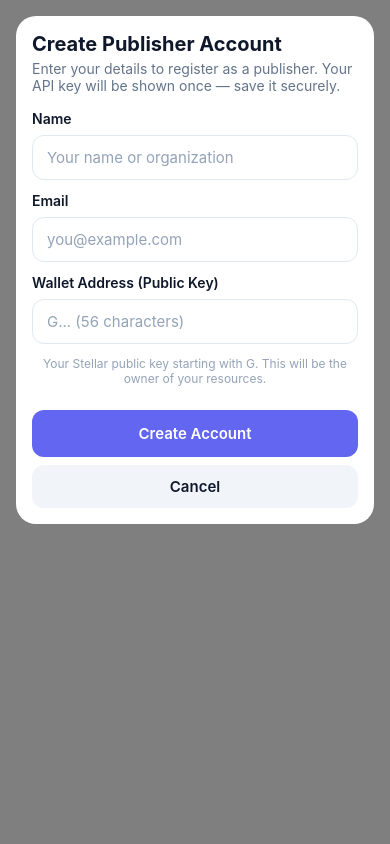
Test case: PublisherSignupSheet › shows validation error for invalid email
Type "not-an-email" into the field with placeholder "you@example.com". click: (195, 240)
box: [32,217,358,262]
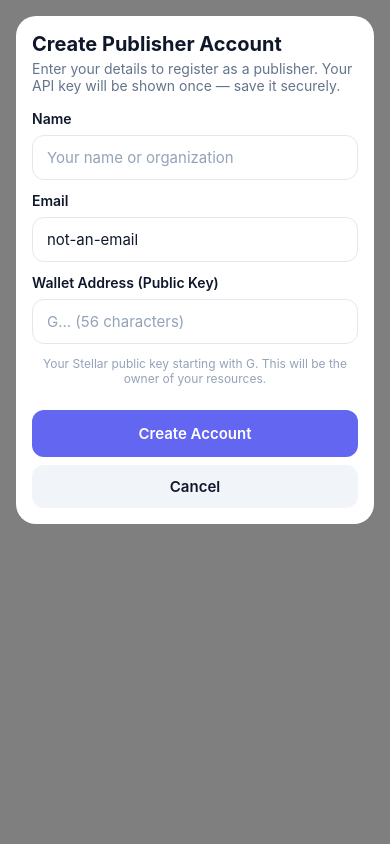
Click the button "Create Account". click: (195, 434)
box: [32,410,358,457]
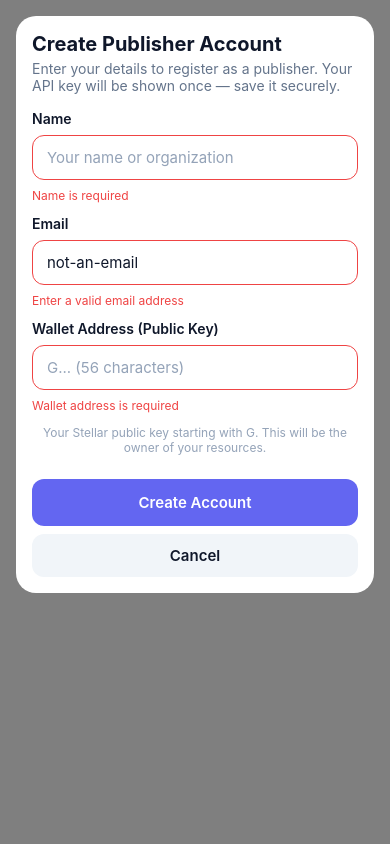
Expected: the text "Enter a valid email address" is shown, [32,293,184,308]
